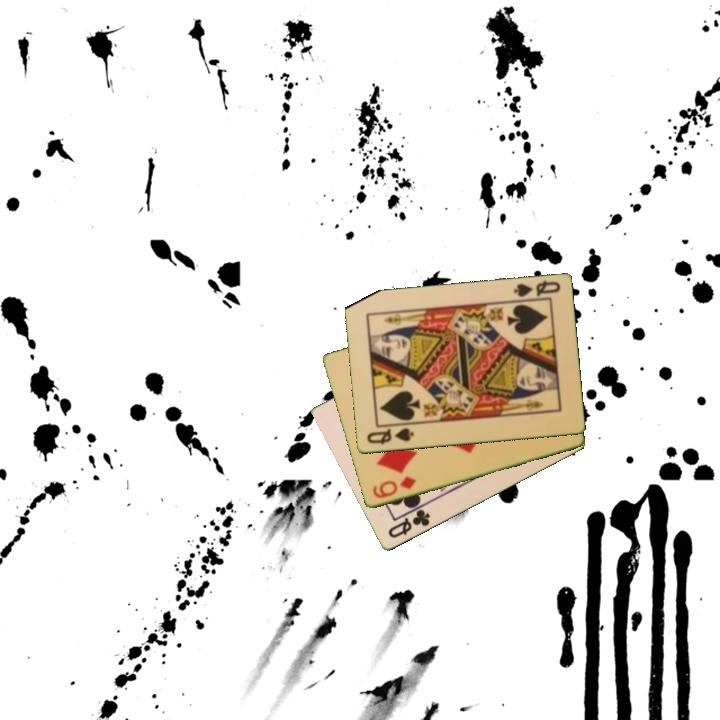6d: (369, 473, 419, 501)
Qc: (384, 506, 433, 541)
Qs: (363, 425, 417, 448), (510, 277, 563, 300)
